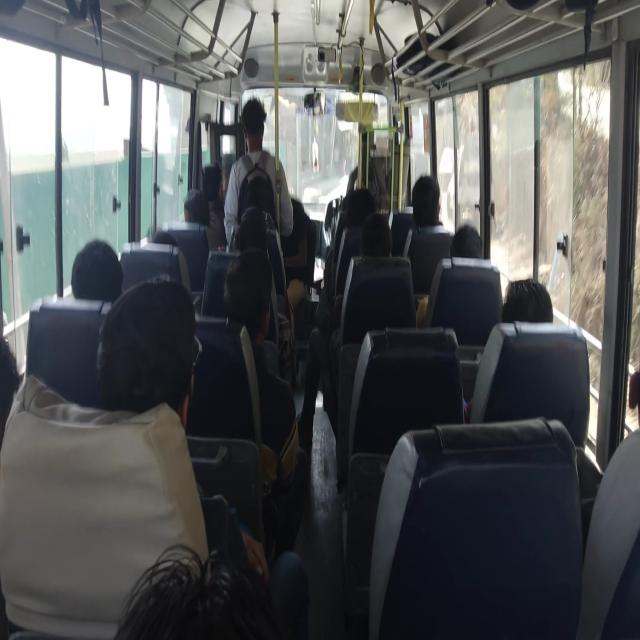person: (128, 532, 354, 640), (104, 300, 199, 421), (601, 308, 640, 446), (0, 335, 35, 454), (73, 241, 141, 290), (418, 172, 467, 234), (496, 278, 554, 317), (356, 222, 398, 273), (348, 189, 394, 232), (452, 219, 492, 257), (242, 95, 271, 144), (153, 215, 187, 249), (180, 190, 202, 218)
